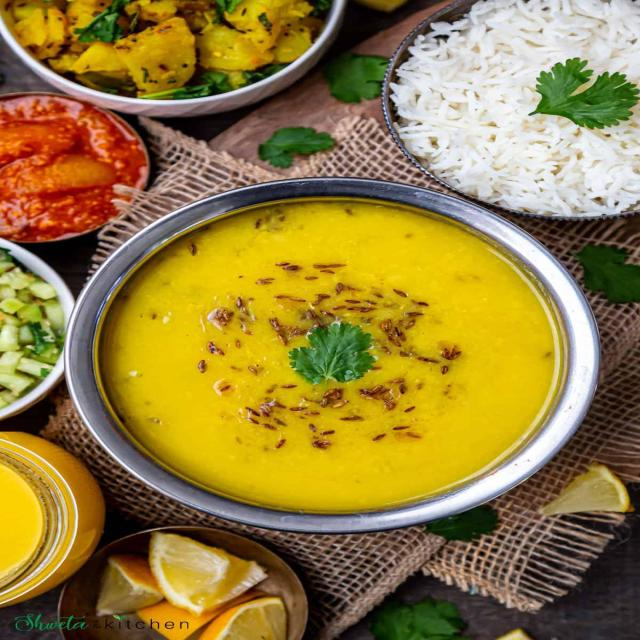dal: (104, 204, 561, 511)
